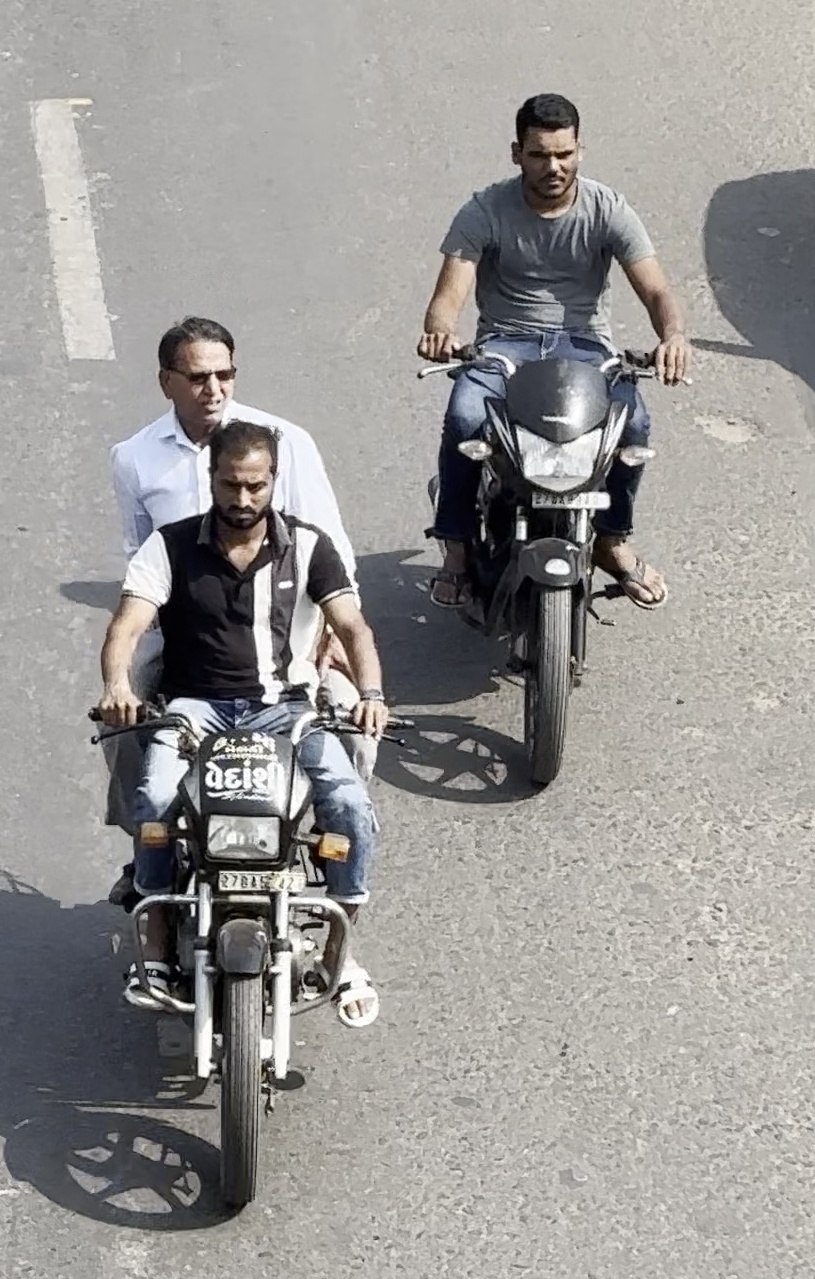BikeWithRider: (72, 301, 406, 1219), (403, 81, 703, 800)
NoHelmet: (141, 307, 256, 441), (493, 83, 602, 213), (193, 414, 296, 537)
